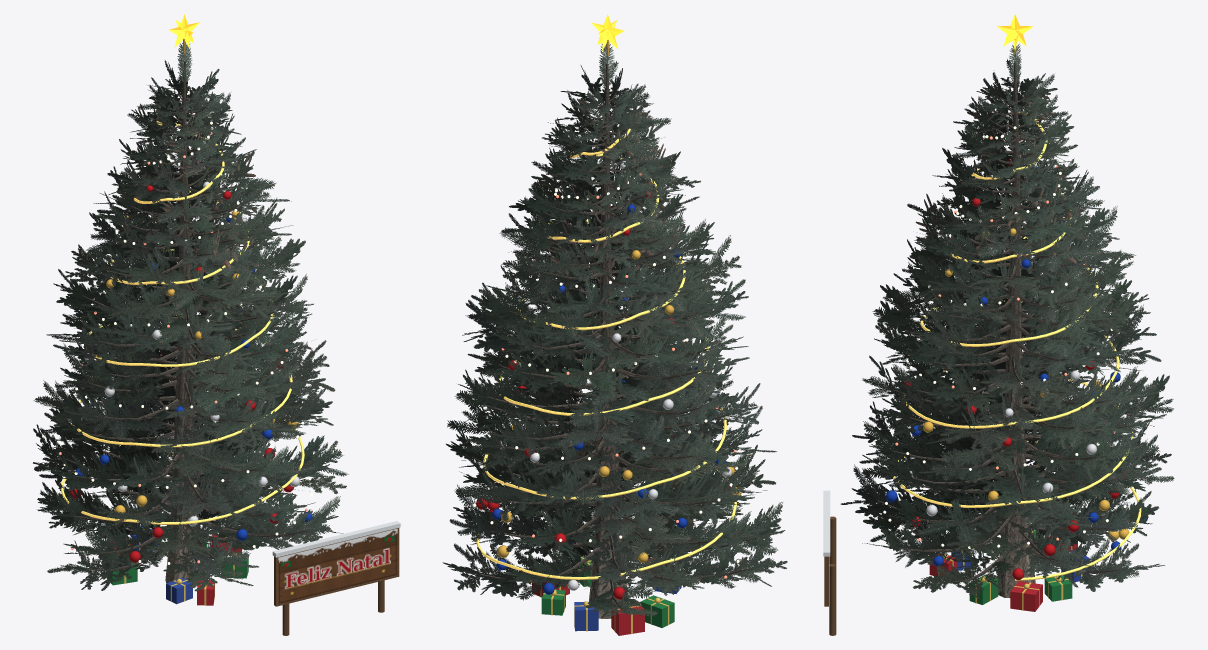
Rendered from pinsapo_navidad.glb.
3 renders of one model, left to right at view 1: azimuth 30°, elevation 25°; view 2: azimuth 150°, elevation 25°; view 3: azimuth 270°, elevation 25°, orthographic. The views are drawn at different scales.
Parts seen in each view (by area): view 1: PS_Copa_Ramitas, PS_Tronco_Ramas, NV_Cartel_Letrero, NV_Guirnalda, Grupo_10_3piezas, NV_Cartel_Nieve, Grupo_0_18piezas, Grupo_5_120piezas, Grupo_8_3piezas, Grupo_2_18piezas, Grupo_9_2piezas, Grupo_1_19piezas (+1 smaller); view 2: PS_Copa_Ramitas, PS_Tronco_Ramas, NV_Guirnalda, Grupo_8_3piezas, Grupo_6_3piezas, Grupo_1_19piezas, Grupo_3_18piezas, Grupo_9_2piezas, Grupo_2_18piezas, Grupo_0_18piezas, Grupo_5_120piezas, Grupo_7_24piezas; view 3: PS_Copa_Ramitas, PS_Tronco_Ramas, NV_Guirnalda, Grupo_6_3piezas, Grupo_10_3piezas, Grupo_8_3piezas, Grupo_3_18piezas, Grupo_0_18piezas, Grupo_1_19piezas, Grupo_2_18piezas, Grupo_5_120piezas, NV_Cartel_Nieve.
Part boxes in pixels (left/top/right/bottom): PS_Copa_Ramitas: left=33, top=43, right=348, bottom=591; PS_Tronco_Ramas: left=57, top=61, right=312, bottom=586; NV_Cartel_Letrero: left=278, top=528, right=397, bottom=604; NV_Guirnalda: left=61, top=121, right=304, bottom=524; Grupo_10_3piezas: left=274, top=528, right=399, bottom=635; NV_Cartel_Nieve: left=272, top=521, right=400, bottom=557; Grupo_0_18piezas: left=70, top=185, right=294, bottom=562; Grupo_5_120piezas: left=60, top=117, right=312, bottom=564; Grupo_8_3piezas: left=106, top=541, right=248, bottom=585; Grupo_2_18piezas: left=68, top=181, right=300, bottom=526; Grupo_9_2piezas: left=131, top=527, right=192, bottom=604; Grupo_1_19piezas: left=83, top=38, right=298, bottom=513; PS_Copa_Ramitas: left=442, top=44, right=787, bottom=616; PS_Tronco_Ramas: left=472, top=64, right=755, bottom=618; NV_Guirnalda: left=476, top=128, right=736, bottom=579; Grupo_8_3piezas: left=541, top=556, right=674, bottom=627; Grupo_6_3piezas: left=532, top=557, right=668, bottom=635; Grupo_1_19piezas: left=497, top=40, right=741, bottom=583; Grupo_3_18piezas: left=492, top=204, right=726, bottom=594; Grupo_9_2piezas: left=574, top=572, right=681, bottom=631; Grupo_2_18piezas: left=500, top=161, right=732, bottom=590; Grupo_0_18piezas: left=476, top=191, right=736, bottom=599; Grupo_5_120piezas: left=473, top=114, right=743, bottom=562; Grupo_7_24piezas: left=540, top=556, right=679, bottom=634; PS_Copa_Ramitas: left=840, top=44, right=1174, bottom=598; PS_Tronco_Ramas: left=877, top=63, right=1140, bottom=597; NV_Guirnalda: left=893, top=111, right=1141, bottom=580; Grupo_6_3piezas: left=929, top=534, right=1077, bottom=611; Grupo_10_3piezas: left=824, top=516, right=836, bottom=635; Grupo_8_3piezas: left=969, top=530, right=1072, bottom=604; Grupo_3_18piezas: left=886, top=167, right=1147, bottom=566; Grupo_0_18piezas: left=904, top=159, right=1129, bottom=580; Grupo_1_19piezas: left=923, top=39, right=1129, bottom=540; Grupo_2_18piezas: left=905, top=177, right=1132, bottom=516; Grupo_5_120piezas: left=883, top=126, right=1141, bottom=548; NV_Cartel_Nieve: left=823, top=490, right=830, bottom=556.
Size of the model in its own units: 10.99 by 19.97 by 11.65.
17 materials, 3 textured.
